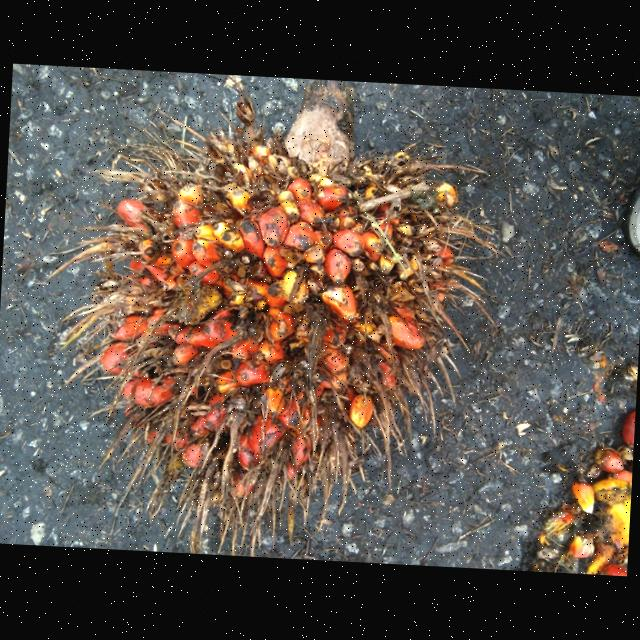Overripe: (91, 79, 467, 503)
